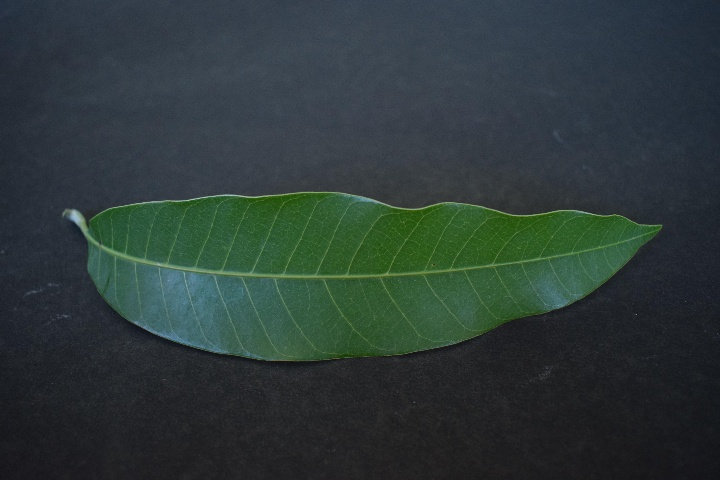healthy: (81, 195, 645, 363)
